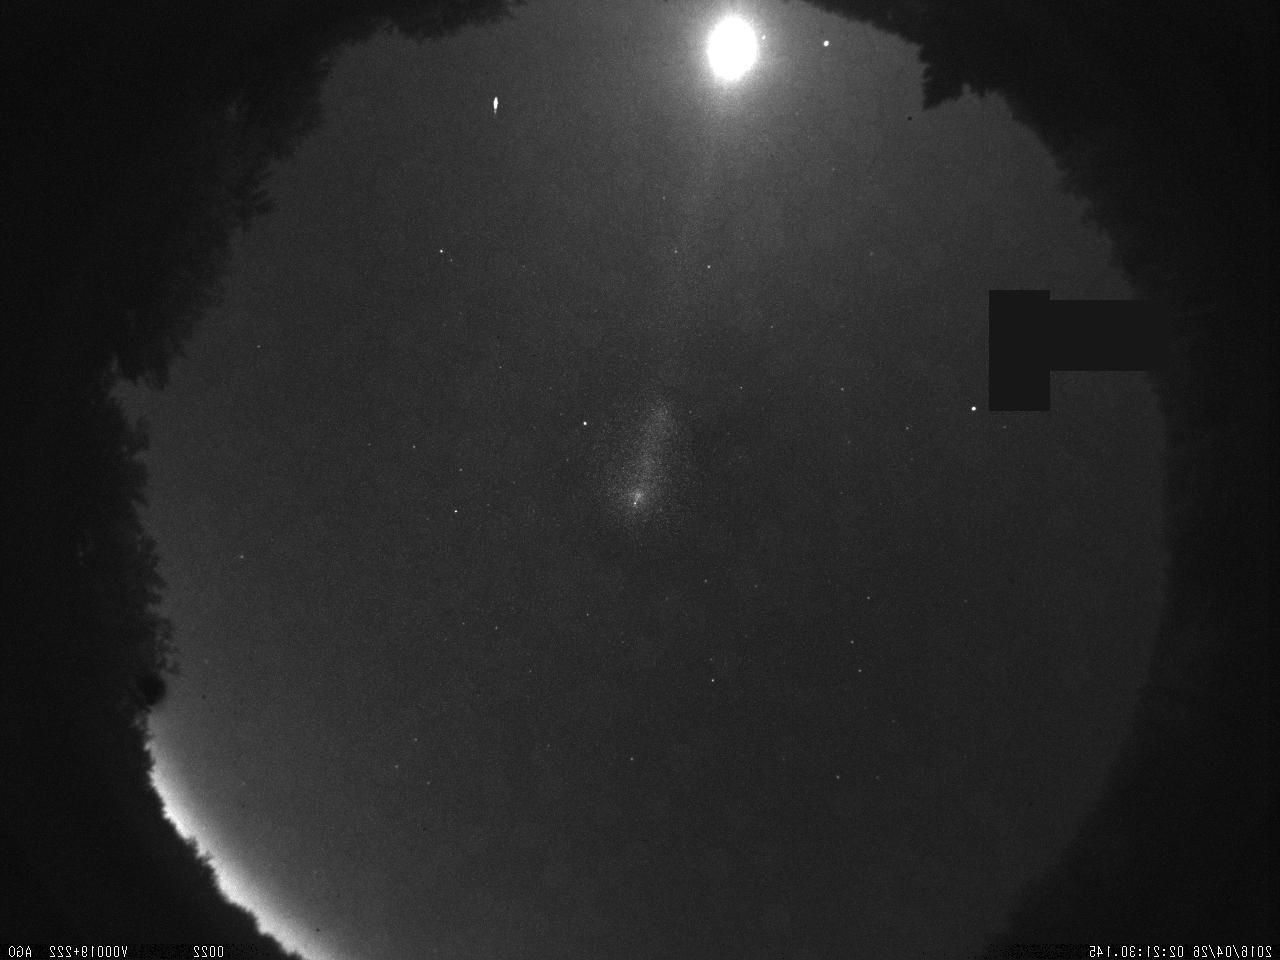meteor: (486, 95, 503, 122)
